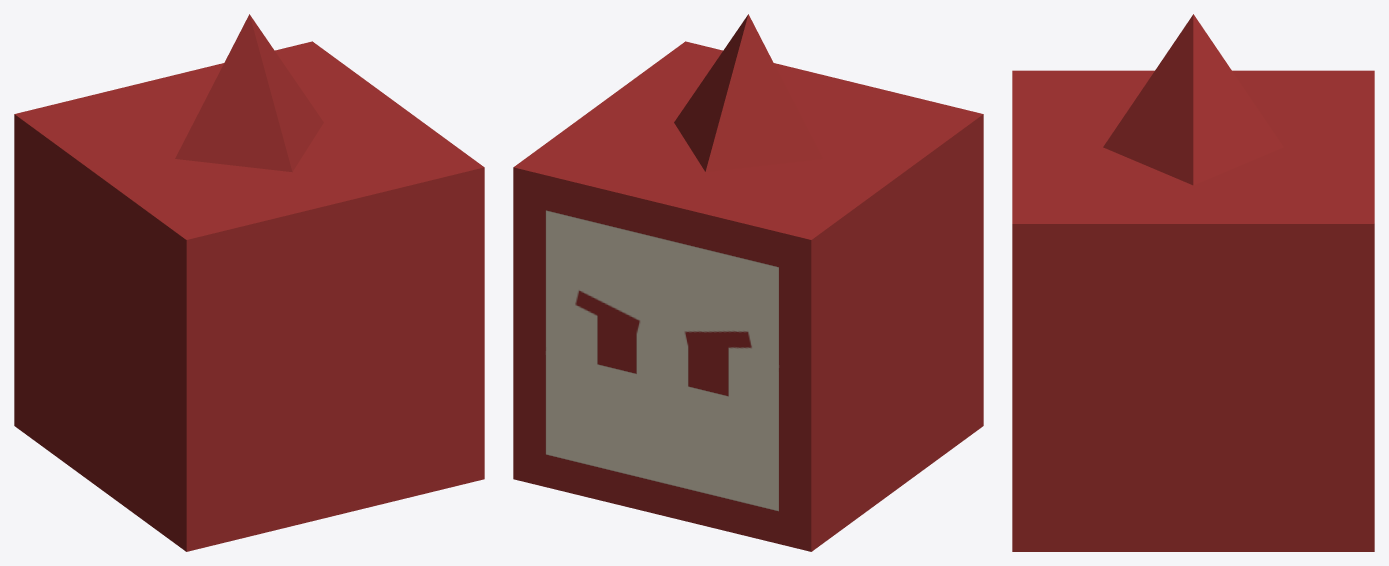
Rendered from Head1.obj.
3 views of the same model, side by side, from view 1: azimuth 30°, elevation 25°; view 2: azimuth 150°, elevation 25°; view 3: azimuth 270°, elevation 25° (orthographic). The views are drawn at different scales.
Visible parts, largest first — view 1: Cube; view 2: Cube; view 3: Cube.
Boxes of the visible parts, box(x1,y1,x2,y2) form: Cube: box(14, 14, 484, 551); Cube: box(513, 14, 983, 551); Cube: box(1012, 14, 1374, 551).
Bounding box in the file's own units: 2 × 2.81 × 2.
Materials: 1 (1 with a texture image).
